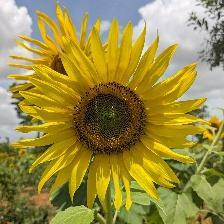sunflower: (19, 17, 212, 214)
